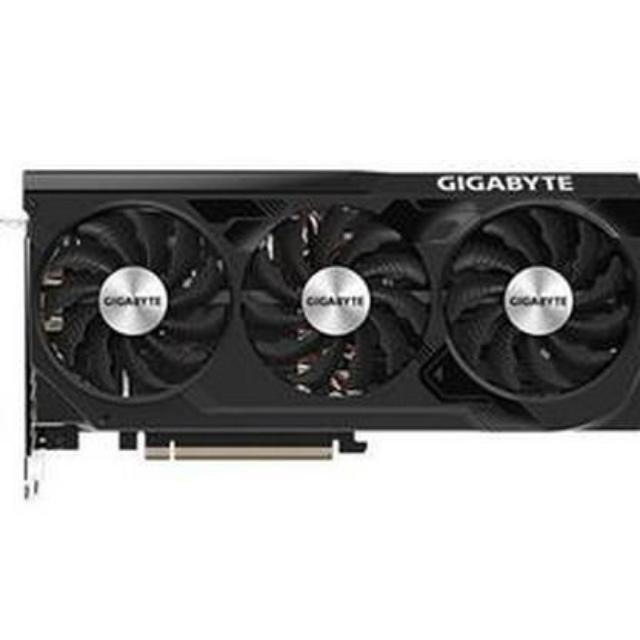GPU: (15, 146, 640, 469)
